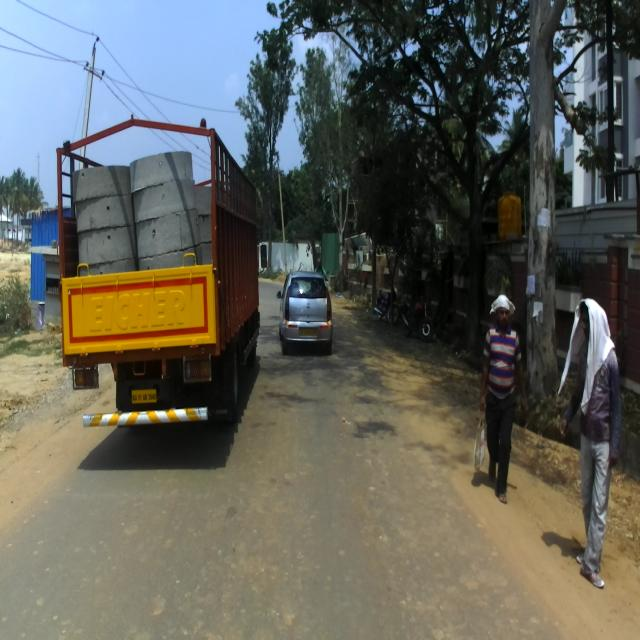car ahead at: (277, 269, 334, 351)
person ahead at: (568, 305, 625, 599), (477, 289, 521, 499)
tree ahead at: (524, 0, 564, 402)
truck ahead at: (56, 111, 270, 435)
